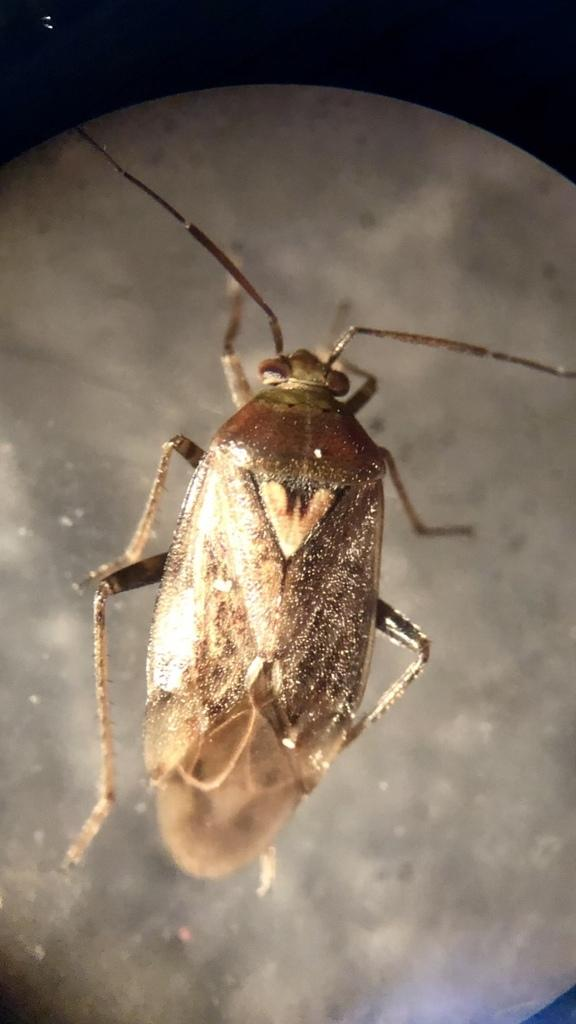plant_bugs: (0, 50, 576, 1024)
